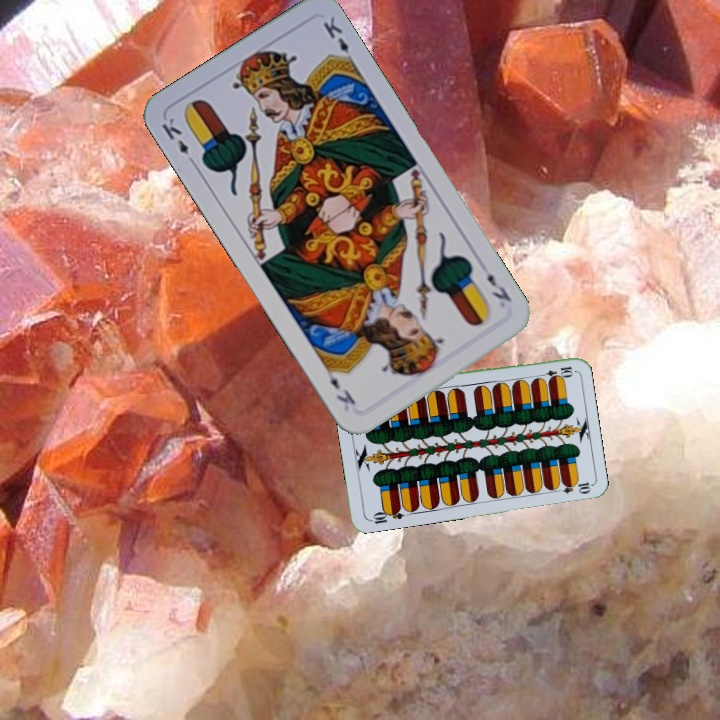E10: (366, 503, 406, 526), (535, 362, 575, 381)
EK: (157, 113, 199, 169), (483, 269, 514, 305)
